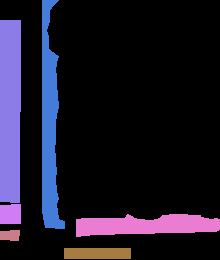parkingspot: (42, 0, 64, 228), (0, 20, 20, 202), (76, 214, 220, 236), (64, 248, 130, 258), (0, 204, 20, 223), (0, 230, 19, 240)
